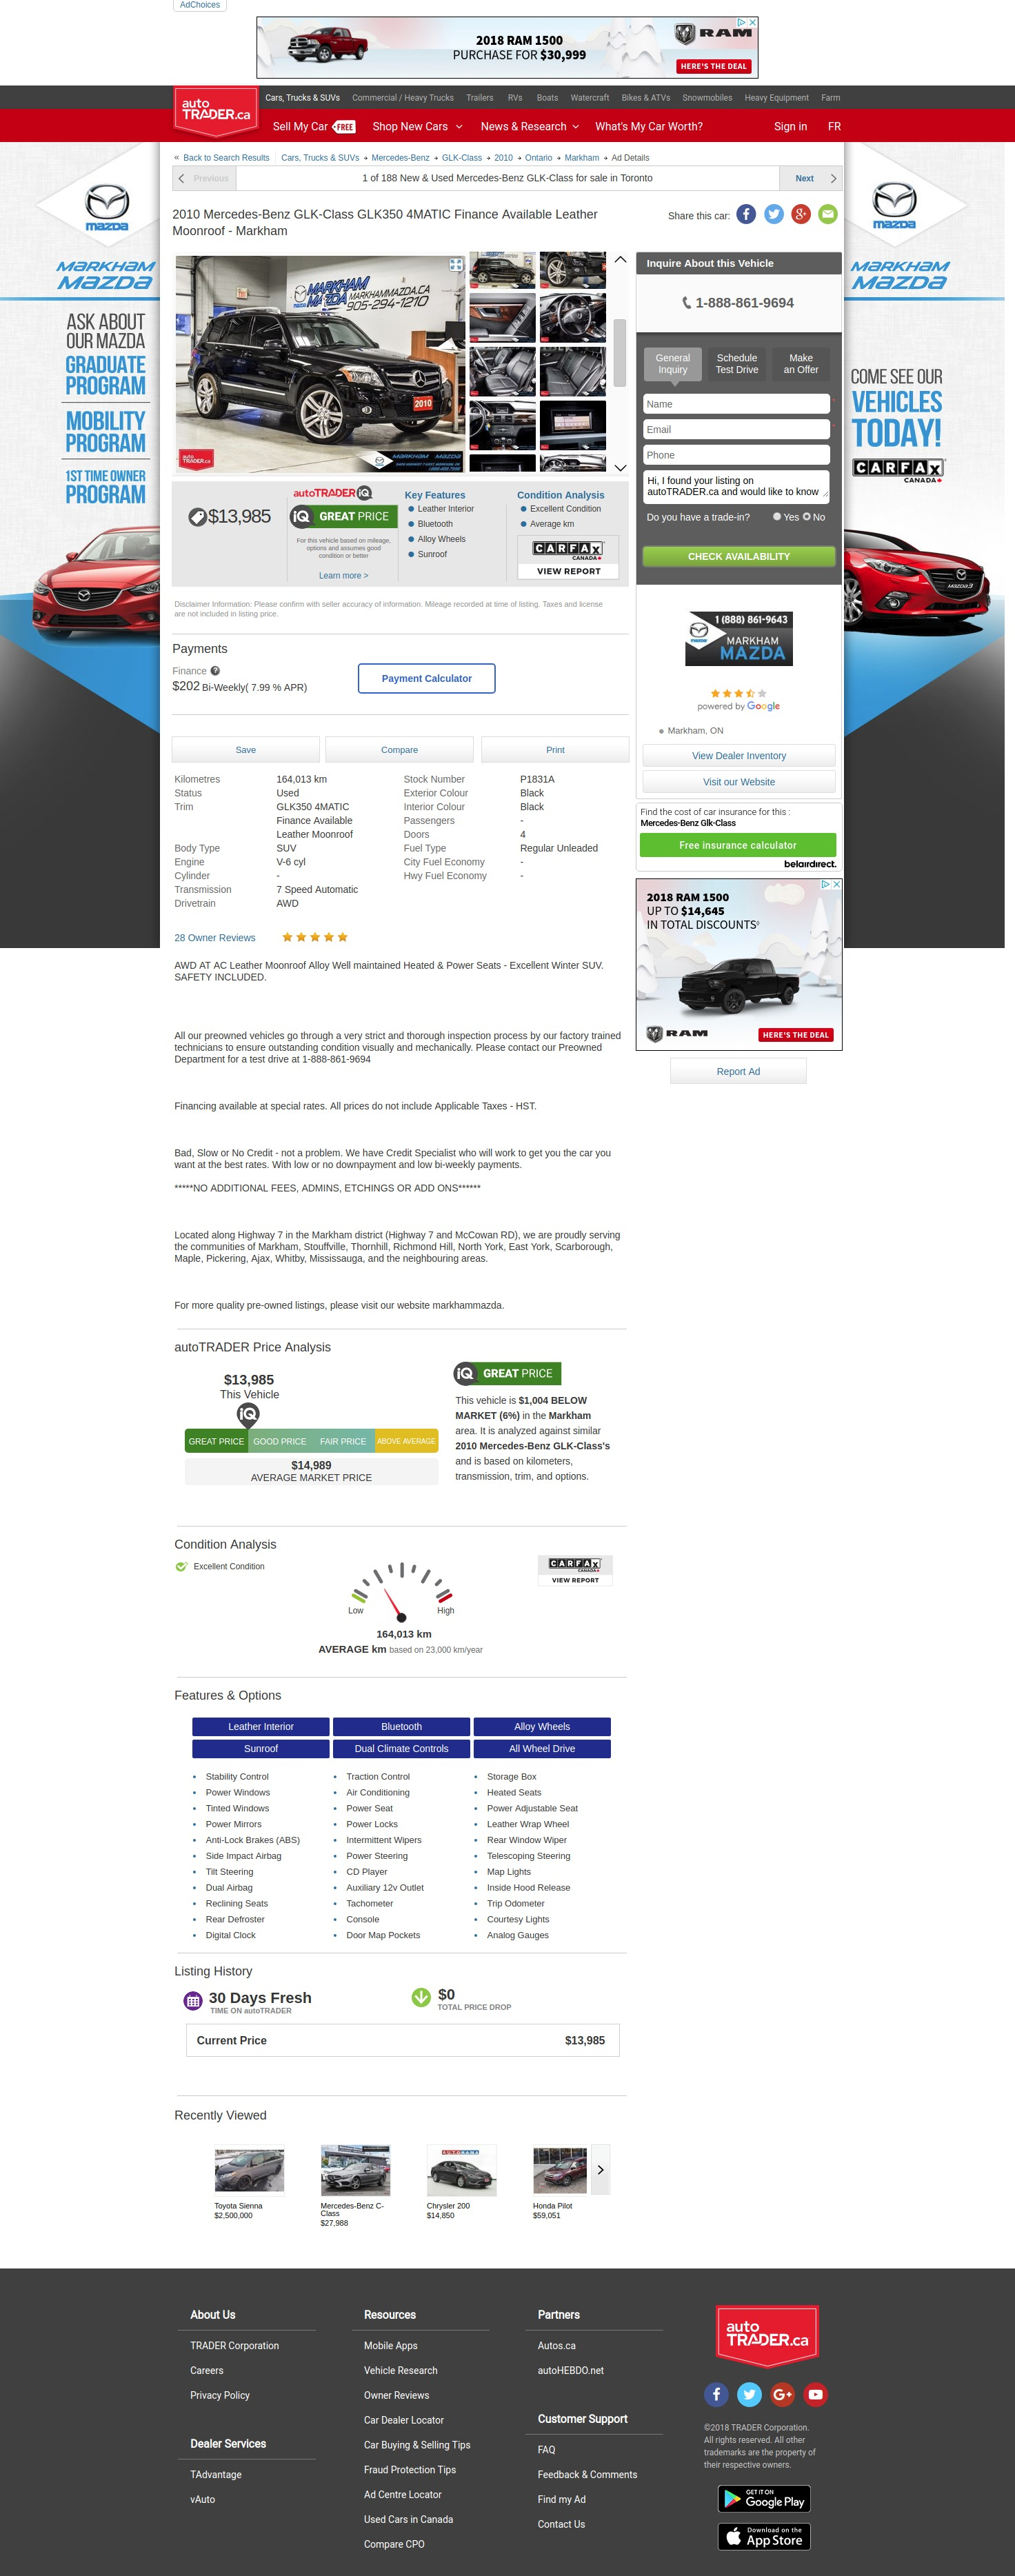car: (614, 463, 627, 473)
